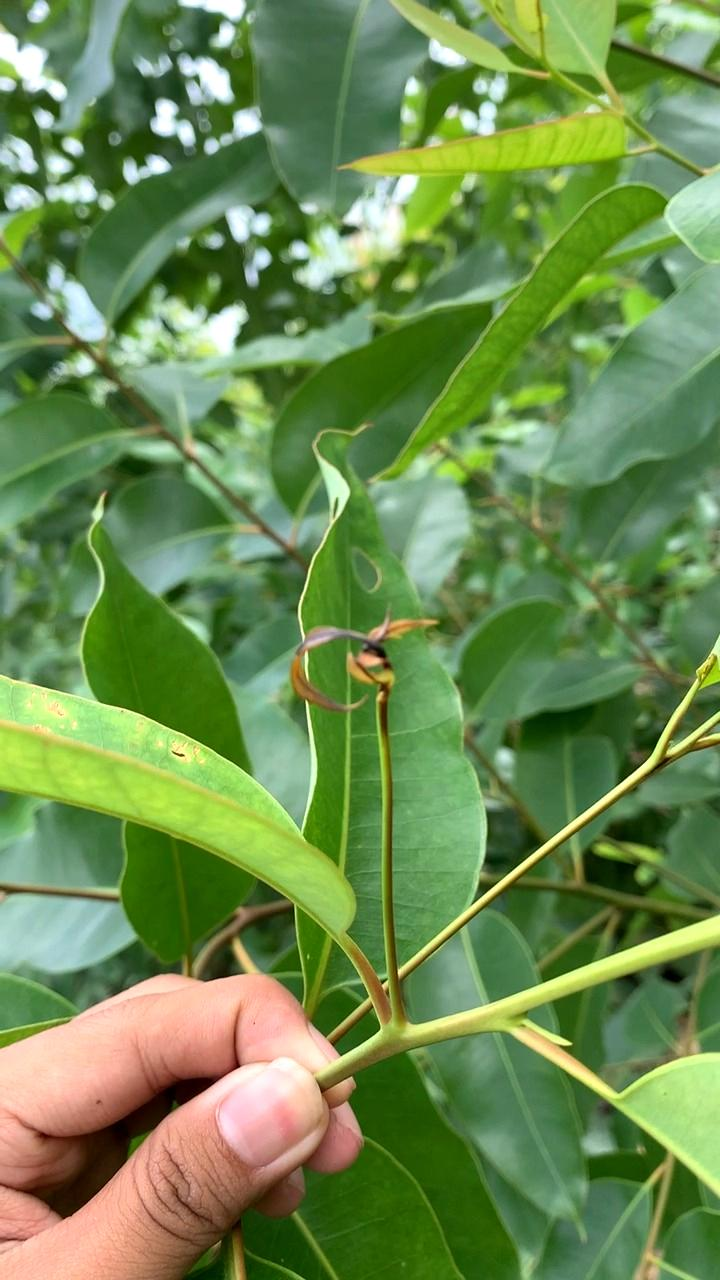Helopeltis-Withered Sprout: (293, 598, 457, 715)
